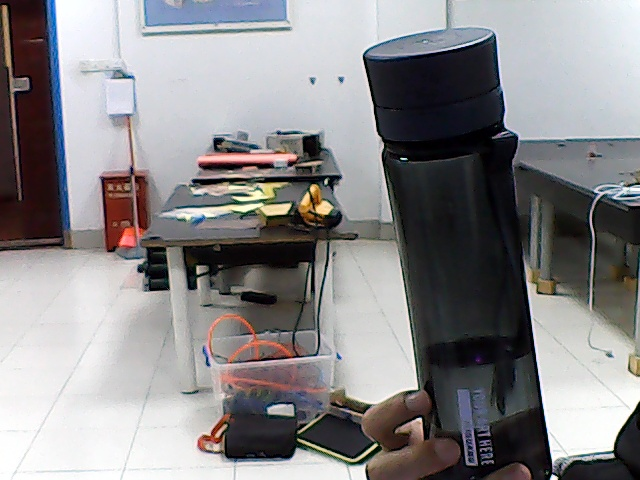cup: (408, 34, 506, 425)
